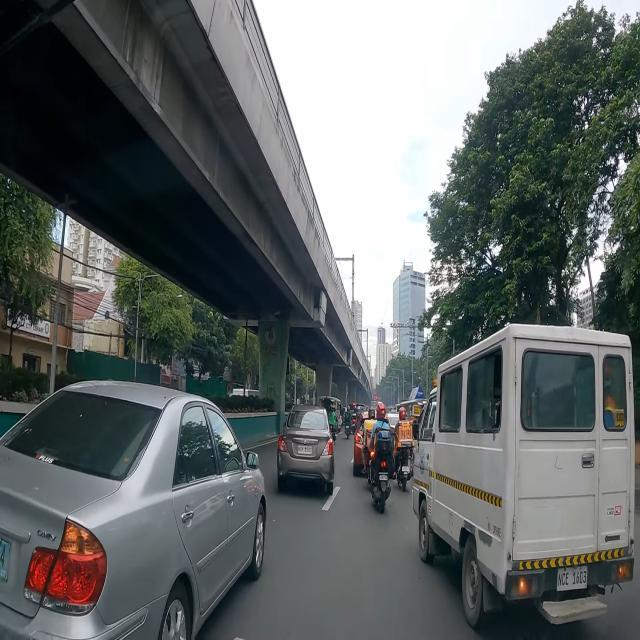car: (0, 380, 266, 639), (276, 406, 334, 492)
jeepney: (318, 396, 342, 434), (396, 399, 426, 425)
motorcycle: (368, 405, 394, 513), (394, 406, 414, 491), (362, 408, 376, 474), (328, 404, 338, 446), (344, 406, 352, 438), (351, 404, 359, 434), (340, 404, 344, 428)
truck: (413, 324, 634, 628)
